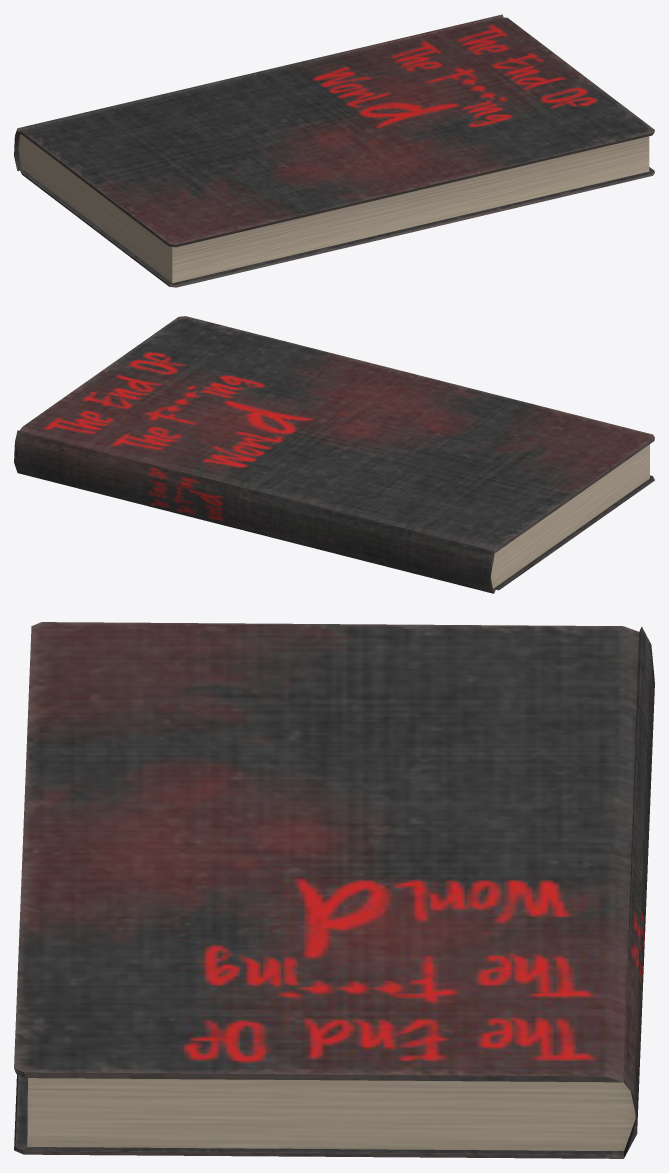
File: ARC0510130.fbx
3 views of the same model, one above another, from view 1: azimuth 30°, elevation 25°; view 2: azimuth 150°, elevation 25°; view 3: azimuth 270°, elevation 25° (orthographic). The views are drawn at different scales.
Visible parts, largest first — view 1: smARC0510130; view 2: smARC0510130; view 3: smARC0510130.
Part boxes in pixels (x1,y1,x2,y2): smARC0510130: (14,14,654,287); smARC0510130: (14,316,654,593); smARC0510130: (14,622,654,1158).
Bounding box in the file's own units: 36.92 × 3.12 × 21.99.
1 material, 1 textured.
